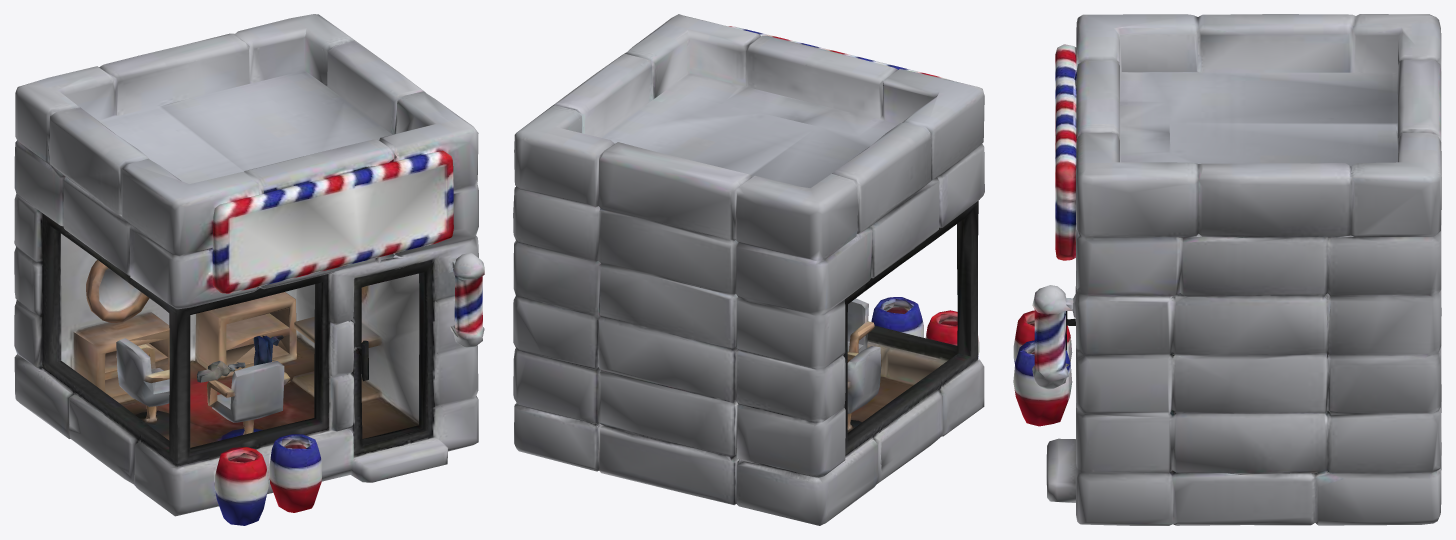
File: shop-salon.glb
3 views of the same model, side by side, from view 1: azimuth 30°, elevation 25°; view 2: azimuth 150°, elevation 25°; view 3: azimuth 270°, elevation 25° (orthographic). The views are drawn at different scales.
Visible parts, largest first — view 1: prop; view 2: prop; view 3: prop.
Part boxes in pixels (x1=…): prop: x1=14, y1=14, x2=484, y2=525; prop: x1=513, y1=14, x2=984, y2=525; prop: x1=1013, y1=14, x2=1441, y2=525.
Size of the model in its own units: 0.9029 by 0.8868 by 0.9804.
1 material, 1 textured.
